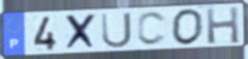4: (32, 15, 59, 52)
C: (136, 10, 168, 47)
H: (204, 5, 241, 45)
O: (170, 8, 205, 47)
U: (99, 11, 133, 50)
X: (63, 12, 98, 52)
